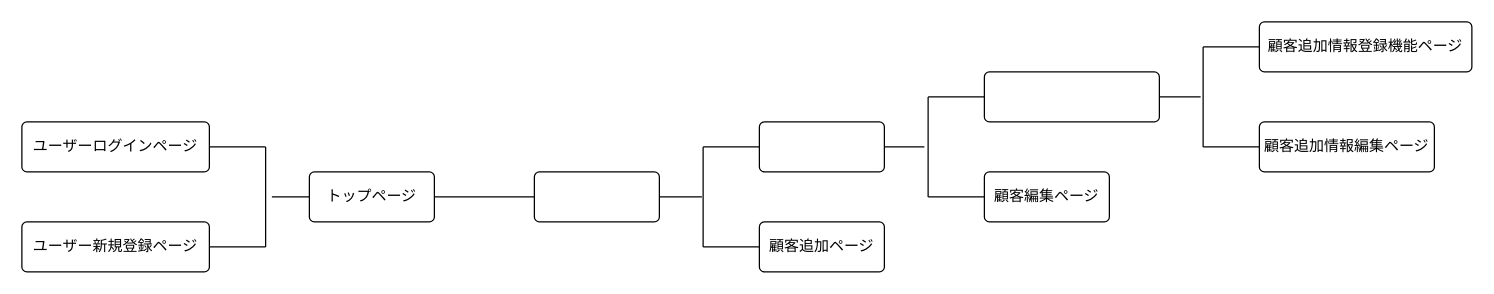
Some shapes in this 1494 by 294 pixel diagram are drawn without their labels. The shapes that lost their labels are listed below. From the top down, each one's centre as x and y in pixels, then its label:
pixel 1071 96: 顧客追加情報一覧ページ
pixel 821 146: 顧客詳細ページ
pixel 596 196: 顧客一覧ページ
